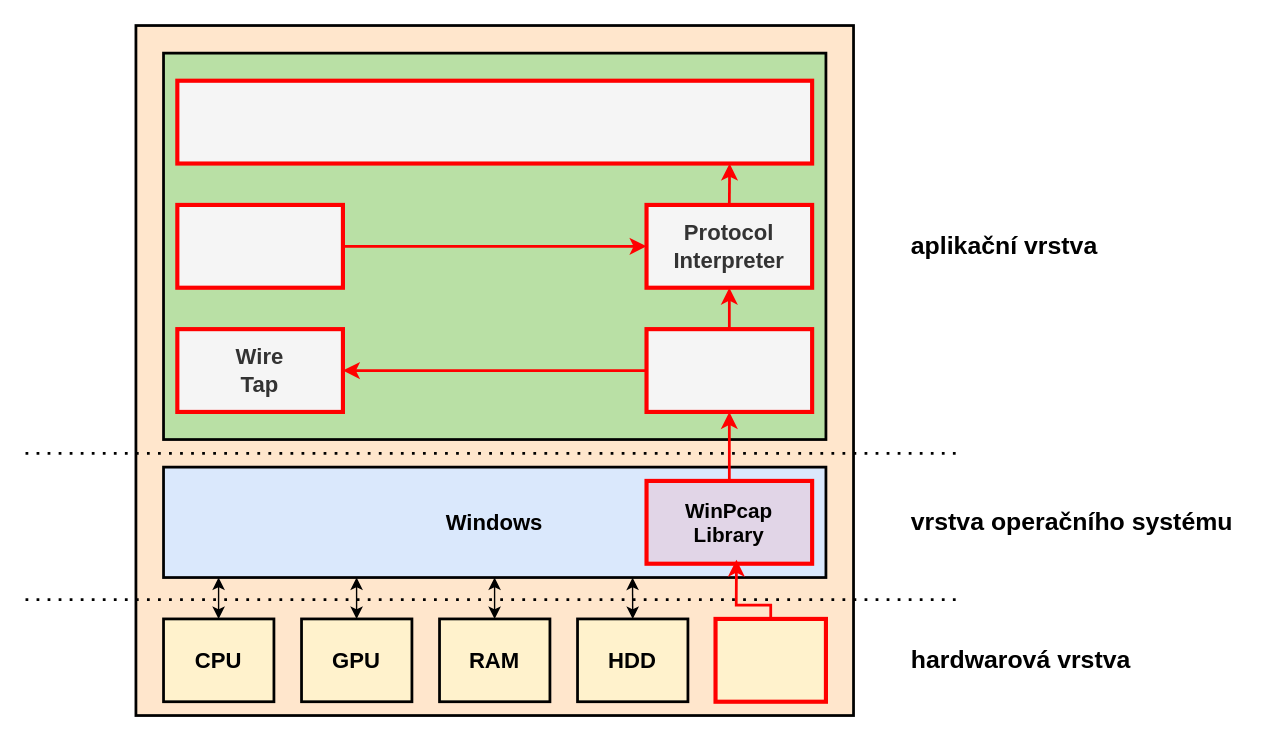
The diagram is 1270 pixels wide and 740 high, and some of its shapes have lost their labels. Here are the shapes that lost their labels. From the top down, the centre of each, then its label:
(494,121): User Interface
(259,245): Disselectors
(729,369): Capture Core
(770,659): Network Card
